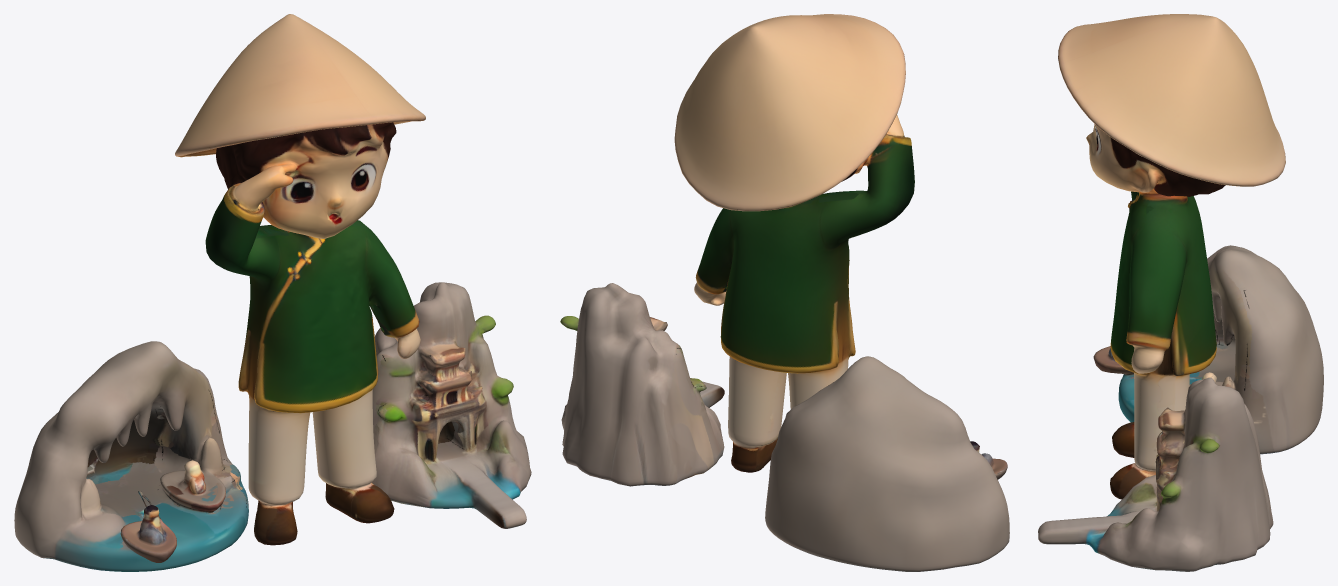
Rendered from nibi-tam-coc-v2.glb.
3 views of the same model, side by side, from view 1: azimuth 30°, elevation 25°; view 2: azimuth 150°, elevation 25°; view 3: azimuth 270°, elevation 25° (orthographic). The views are drawn at different scales.
Visible parts, largest first — view 1: Nibi_TamCoc_Matte_v2; view 2: Nibi_TamCoc_Matte_v2; view 3: Nibi_TamCoc_Matte_v2.
Part boxes in pixels (left/top/right/bottom): Nibi_TamCoc_Matte_v2: left=14, top=14, right=531, bottom=571; Nibi_TamCoc_Matte_v2: left=560, top=14, right=1009, bottom=571; Nibi_TamCoc_Matte_v2: left=1038, top=14, right=1323, bottom=571.
Size of the model in its own units: 1.9 by 1.85 by 1.04.
1 material, 1 textured.
